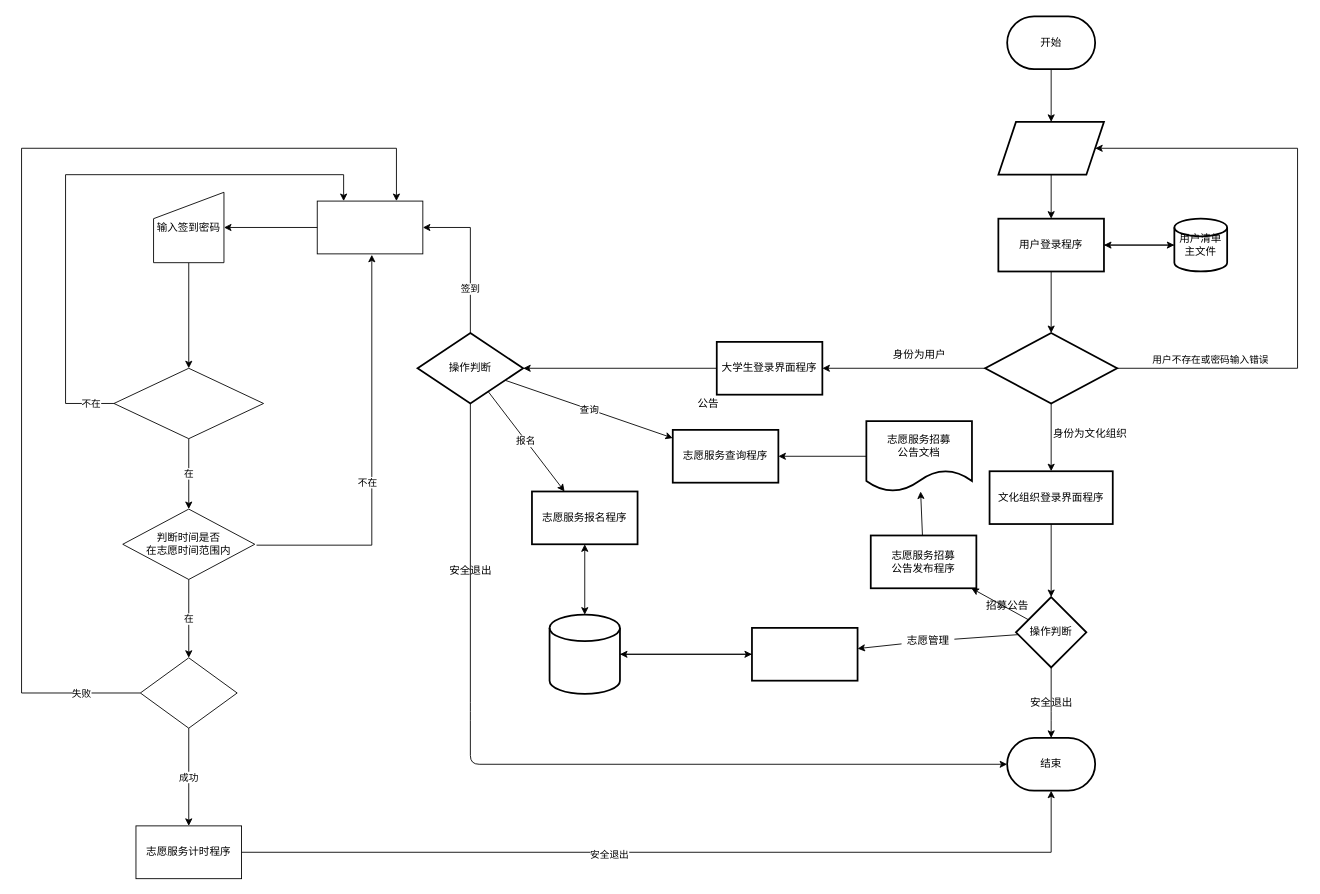
The diagram is 1320 pixels wide and 894 high, and some of its shapes have lost their labels. The box of each missing label's shape, as (x1, y1, x2, y2) in pixels:
判断地理位置是否 在服务范围内: (113, 367, 264, 439)
判断是否成功: (139, 657, 237, 728)
判断用户密码和身份: (984, 332, 1118, 404)
志愿签到界面程序: (316, 200, 423, 254)
志愿管理程序: (751, 627, 858, 681)
志愿者清单: (548, 613, 620, 694)
输入用户账号 密码: (997, 121, 1104, 175)
